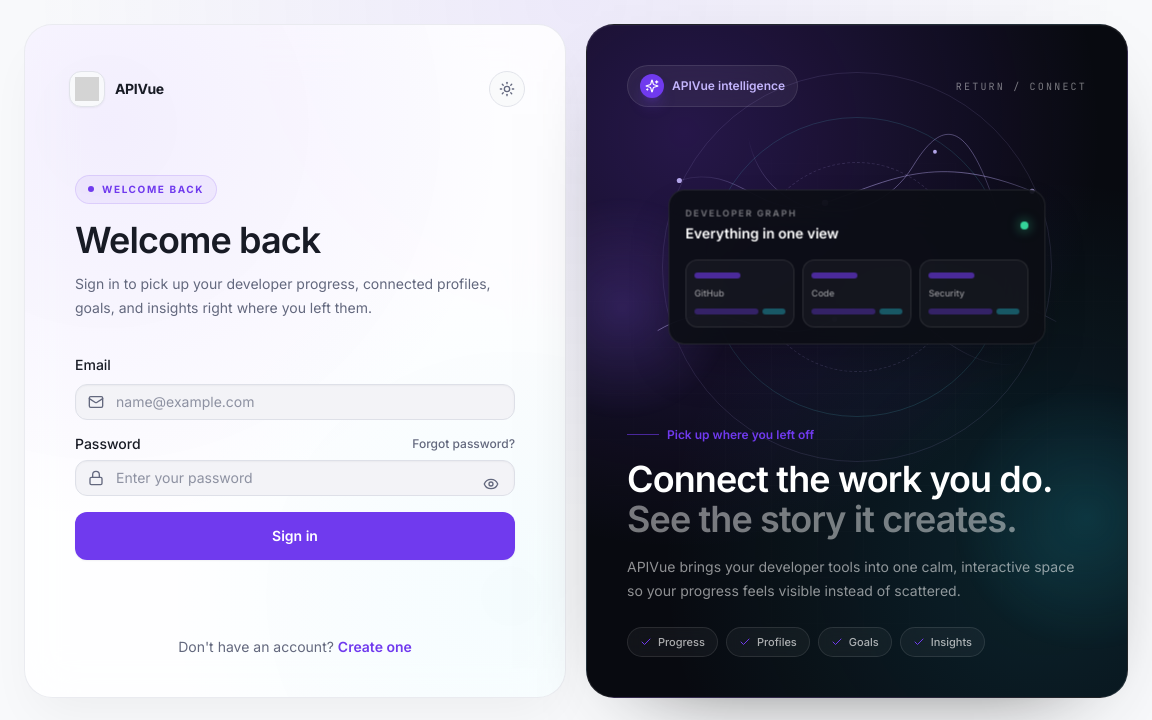
Test: LoginPage validation › reports an incomplete address on blur and wires it to the input
Type "not-an-email" into the field labelled "Email". click: (295, 402)
box: [75,384,515,420]
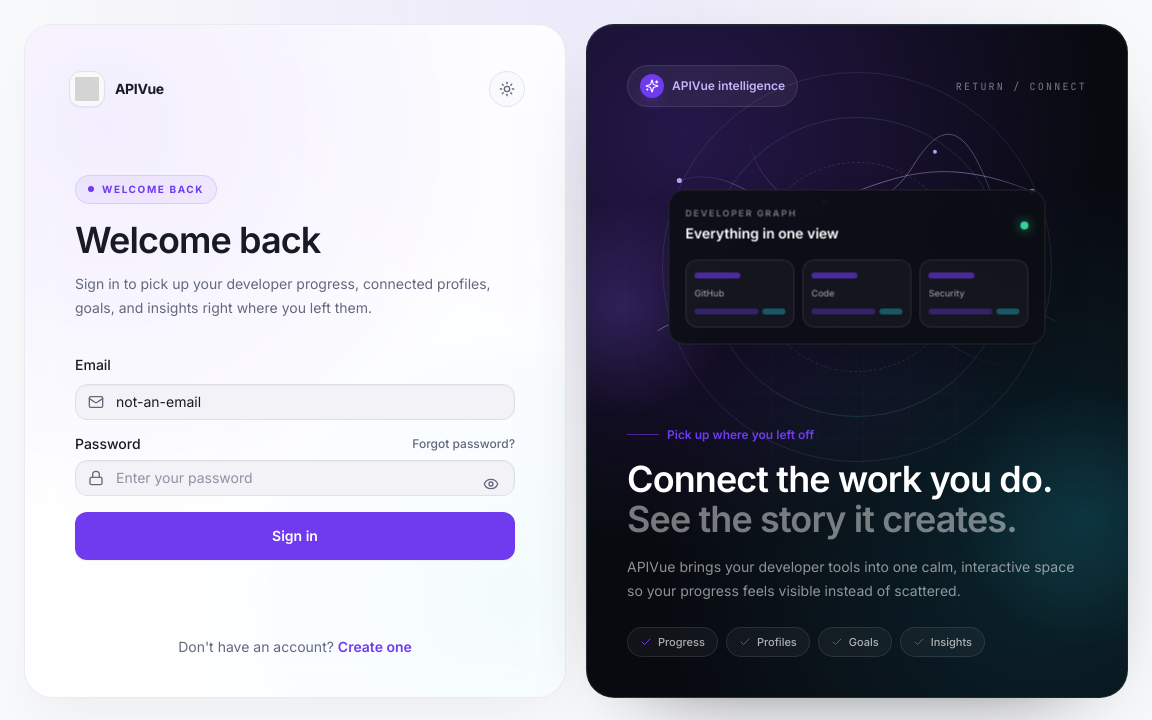
Leave the field labelled "Email", box [75,384,515,420]
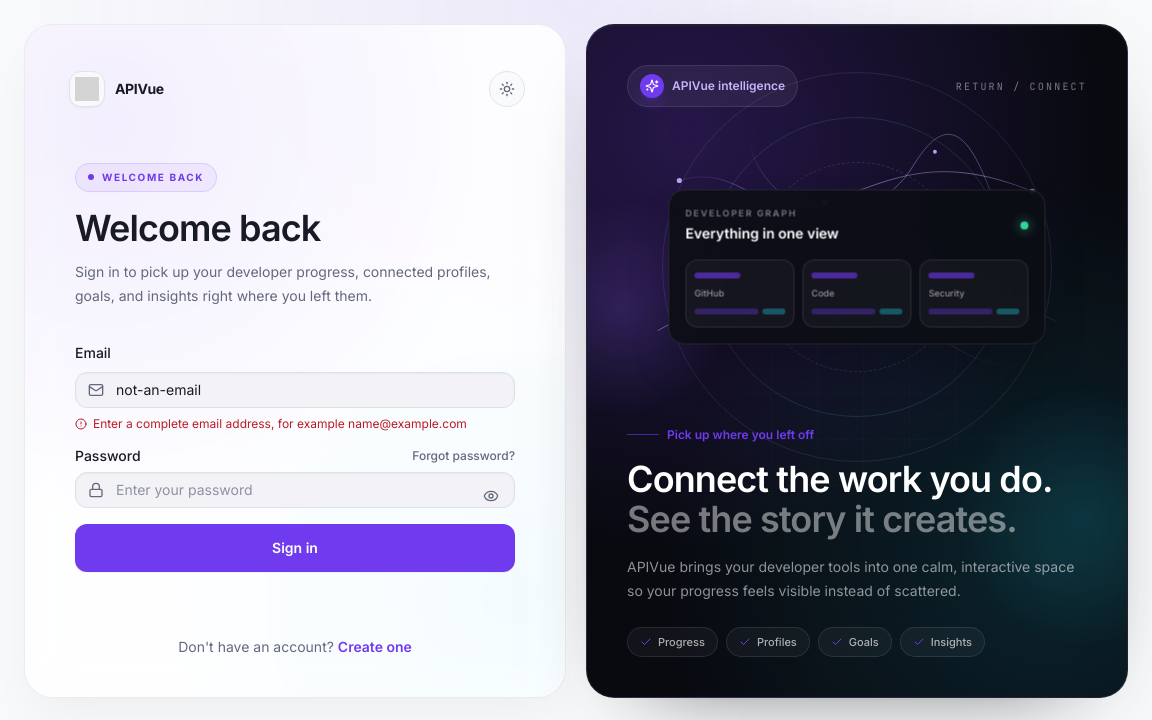
Expected: the text "Enter a complete email address, for example name@example.com" is shown, [75,416,515,432]
